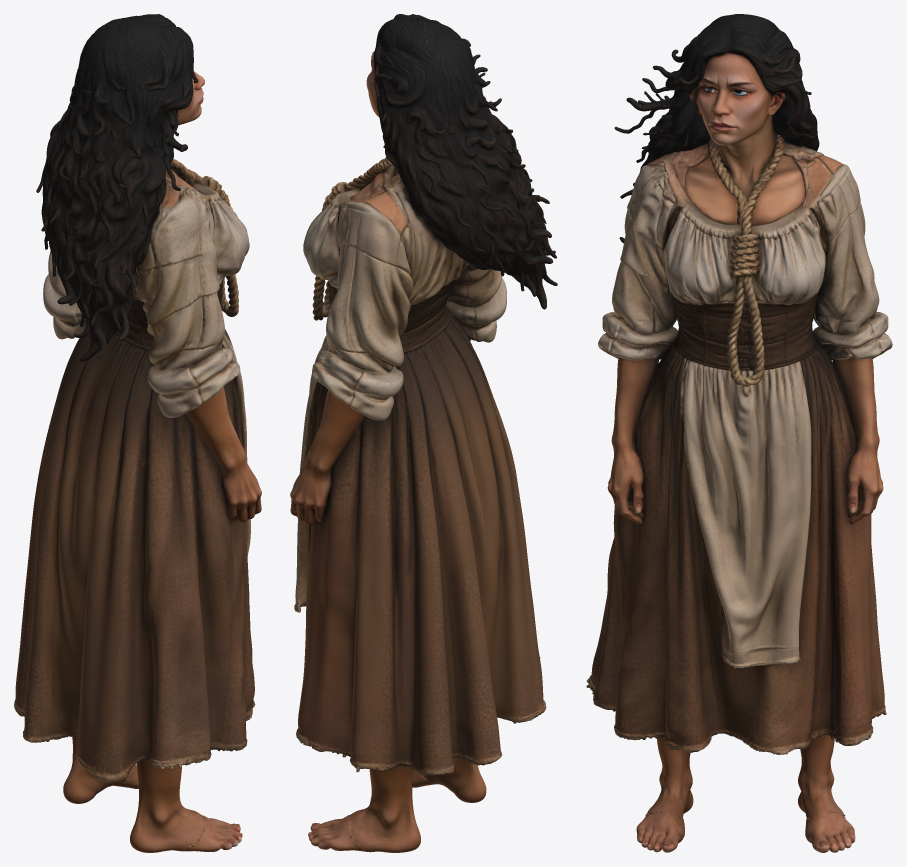
Rendered from leonelda.glb.
The picture shows the model from 3 angles, left to right: view 1: azimuth 30°, elevation 25°; view 2: azimuth 150°, elevation 25°; view 3: azimuth 270°, elevation 25°; orthographic projection.
Visible parts, largest first — view 1: tripo_node_c50f4187-3e97-4248-92c1-7a19ca759267; view 2: tripo_node_c50f4187-3e97-4248-92c1-7a19ca759267; view 3: tripo_node_c50f4187-3e97-4248-92c1-7a19ca759267.
Boxes of the visible parts, box(x1,y1,x2,y2) form: tripo_node_c50f4187-3e97-4248-92c1-7a19ca759267: box(14, 14, 261, 852); tripo_node_c50f4187-3e97-4248-92c1-7a19ca759267: box(290, 14, 557, 852); tripo_node_c50f4187-3e97-4248-92c1-7a19ca759267: box(586, 14, 892, 852).
Size of the model in its own units: 0.273 by 0.98 by 0.3379.
1 material, 1 textured.
